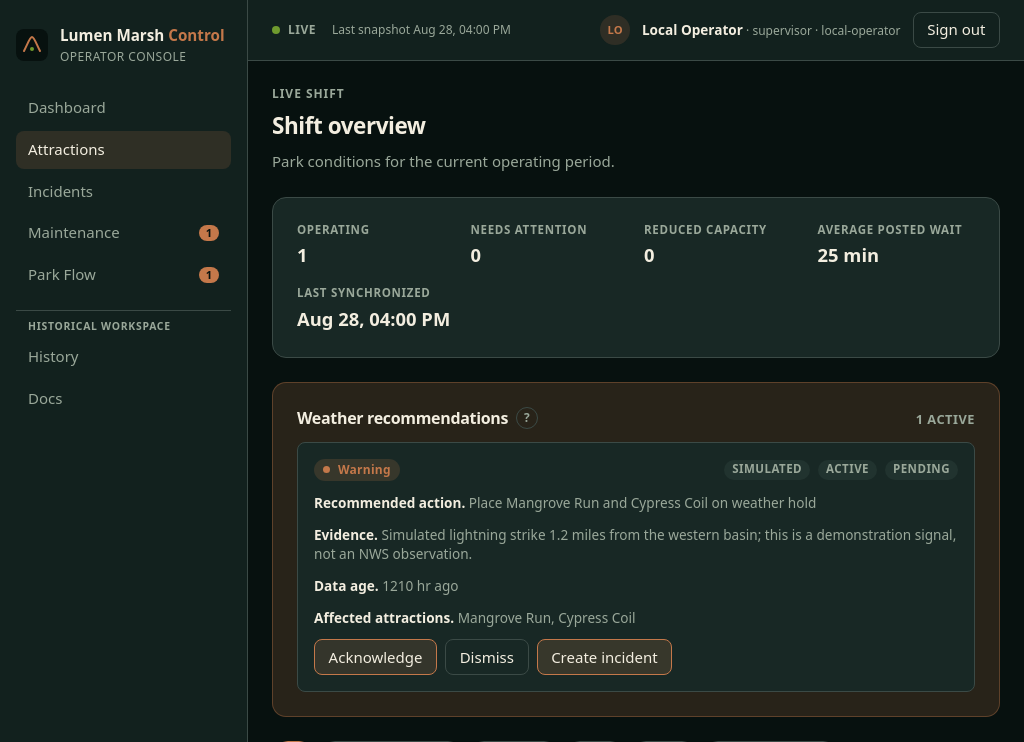
Test case: weather recommendations on shift overview › acknowledges a recommendation from Control Tower
Click the button "Acknowledge" at (376, 657), box [314, 639, 437, 675]
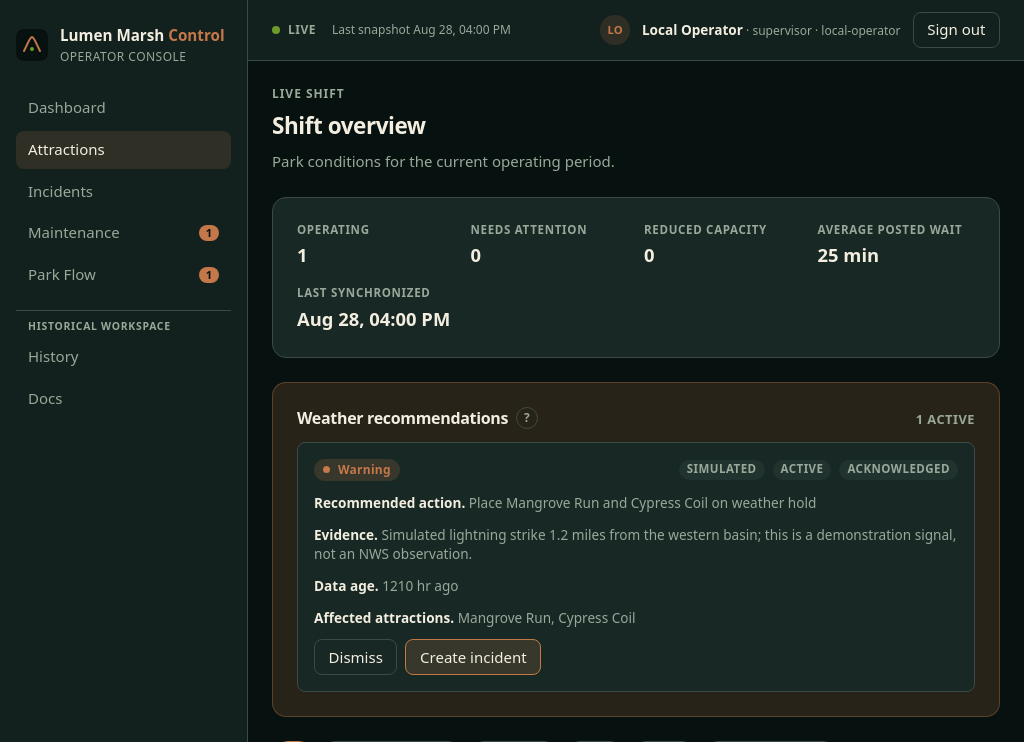
Expected: the text "Acknowledged" is shown, [839, 460, 958, 480]
